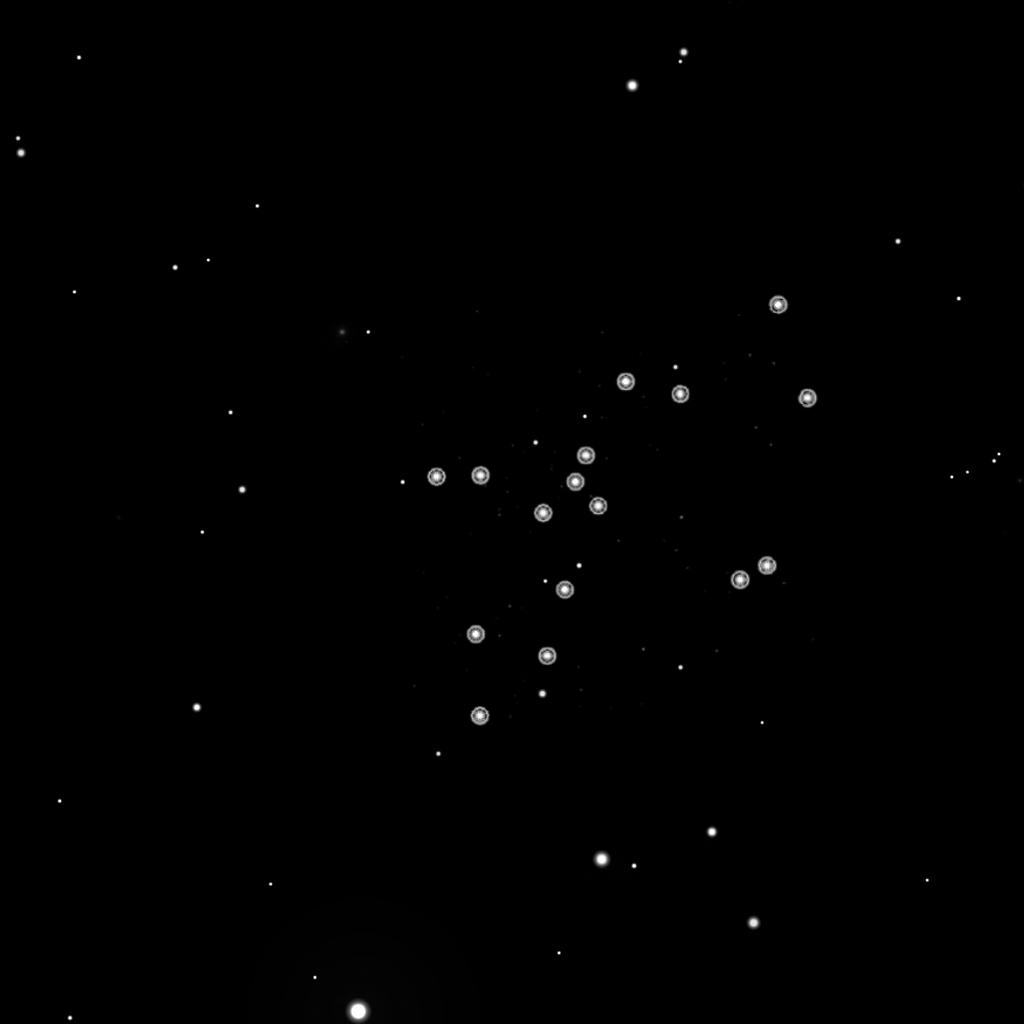canis_major: (530, 367, 696, 530)
